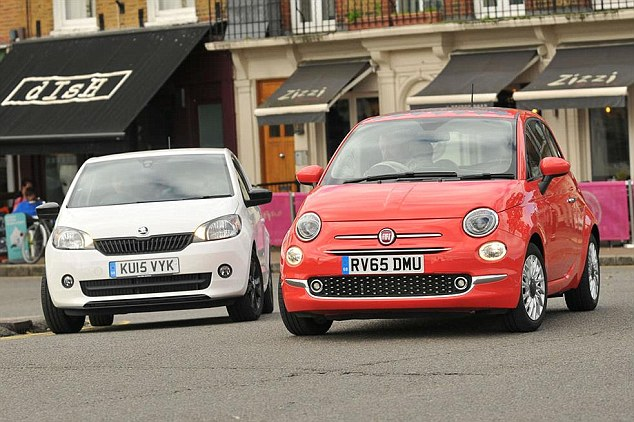car: (276, 105, 601, 335), (45, 146, 274, 334)
